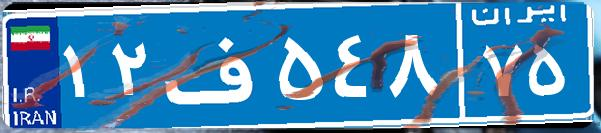1: (57, 26, 110, 107)
2: (110, 28, 158, 105)
4: (330, 28, 385, 110)
5: (273, 28, 330, 110), (525, 38, 570, 115)
7: (475, 38, 525, 113)
8: (385, 28, 445, 110)
ف: (158, 15, 273, 115)
